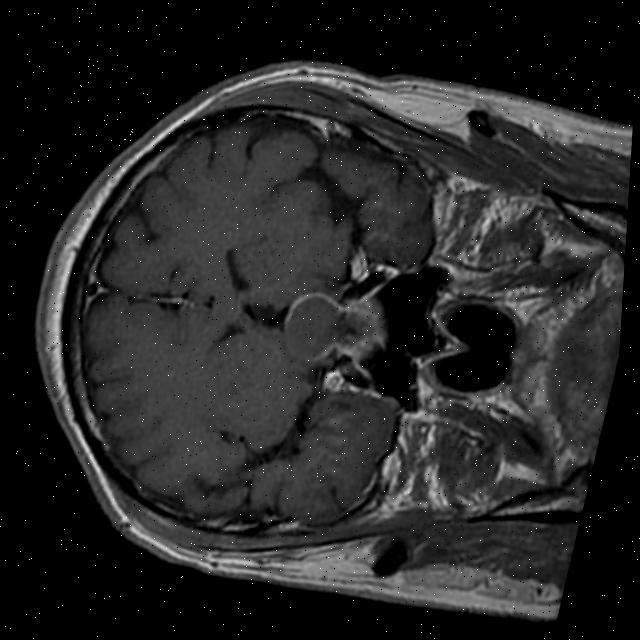Pituitary: (273, 283, 398, 378)
